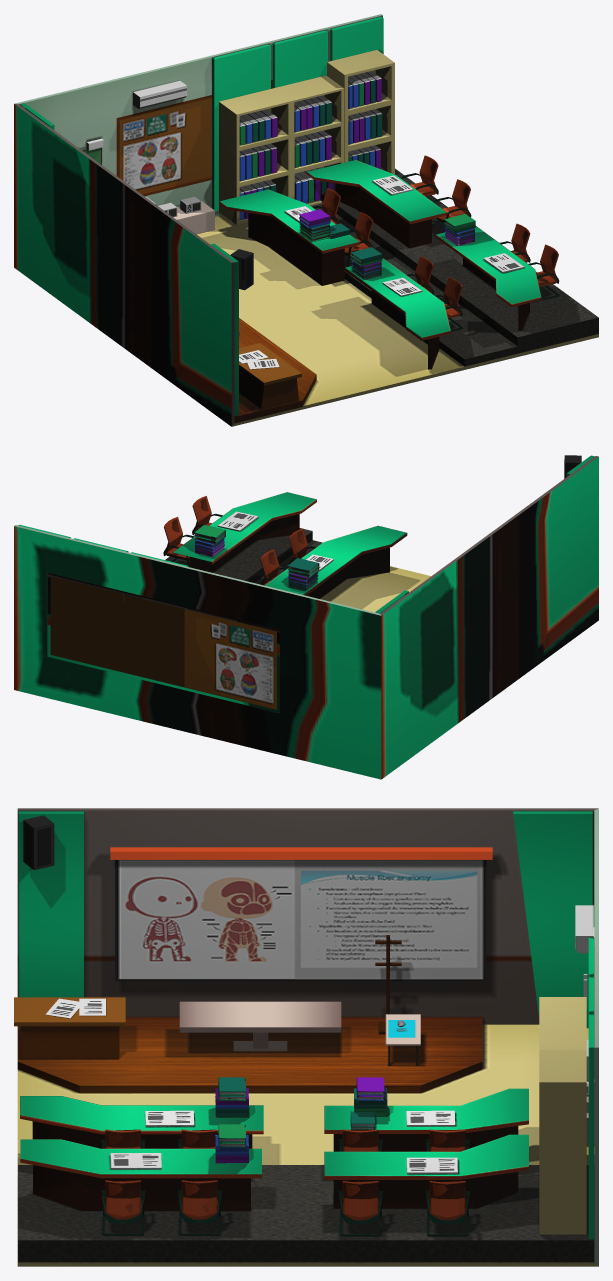
The model's file is Tx_Interior_Education_Medical_20170705.fbx.
3 renders of one model, top to bottom at view 1: azimuth 30°, elevation 25°; view 2: azimuth 150°, elevation 25°; view 3: azimuth 270°, elevation 25°, orthographic. The views are drawn at different scales.
Visible parts, largest first — view 1: layer1_bake, layer2_bake; view 2: layer1_bake, layer2_bake; view 3: layer1_bake, layer2_bake.
Part boxes in pixels (left/top/right/bottom): layer1_bake: left=14, top=14, right=598, bottom=426; layer2_bake: left=239, top=71, right=559, bottom=369; layer1_bake: left=14, top=455, right=598, bottom=779; layer2_bake: left=163, top=496, right=333, bottom=590; layer1_bake: left=14, top=808, right=598, bottom=1266; layer2_bake: left=45, top=998, right=470, bottom=1236.
Size of the model in its own units: 52.33 by 22.3 by 54.03.
